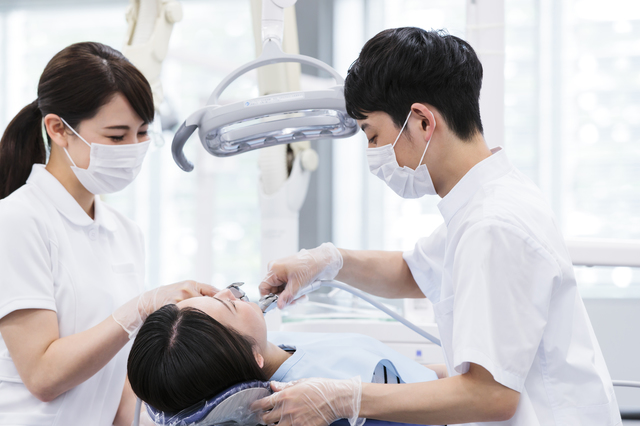mask: (72, 144, 152, 196), (369, 142, 437, 200)
